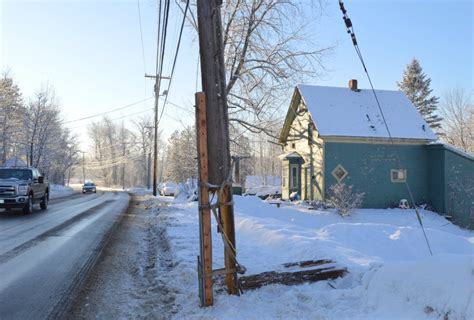pole: (188, 1, 237, 275), (142, 68, 179, 198), (115, 136, 136, 191), (77, 143, 94, 188)
